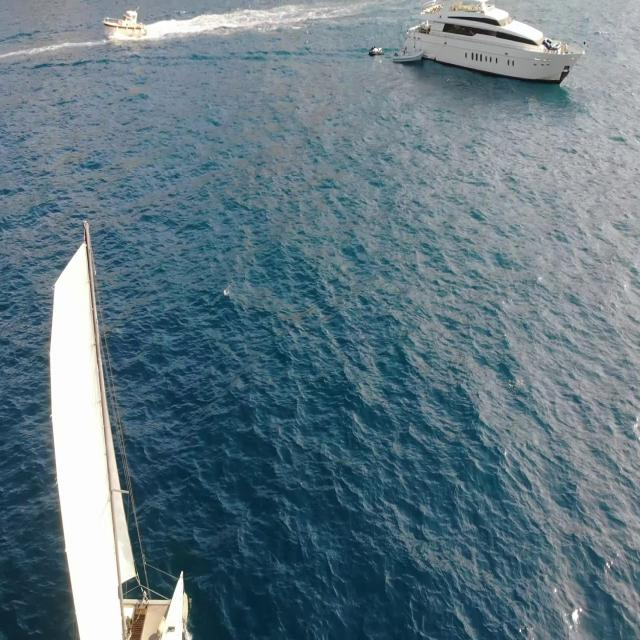boat: (406, 3, 586, 89), (105, 7, 145, 40), (392, 42, 420, 66), (368, 42, 384, 62)
